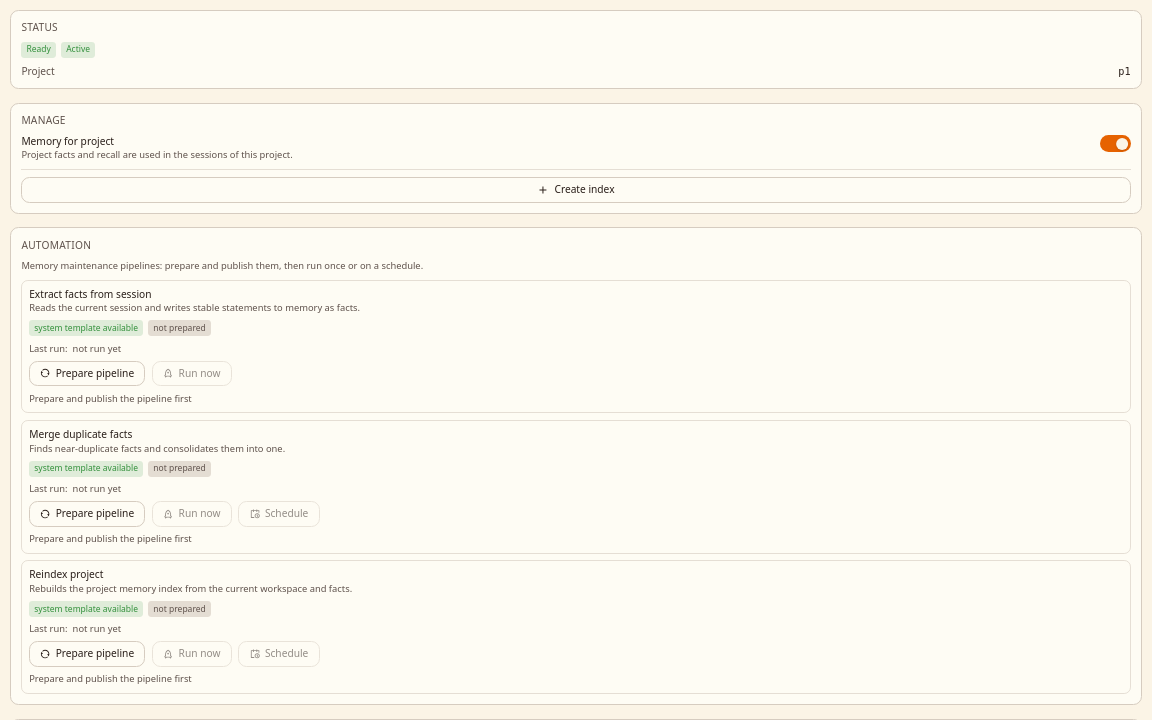
Test: MemoryTab — автоматизация памяти (ADR-101) › ошибка подготовки — inline alert внутри строки
Click the button with test id "memory-automation-prepare-dedupe": (87, 514) top-left (29, 501), bottom-right (145, 527)
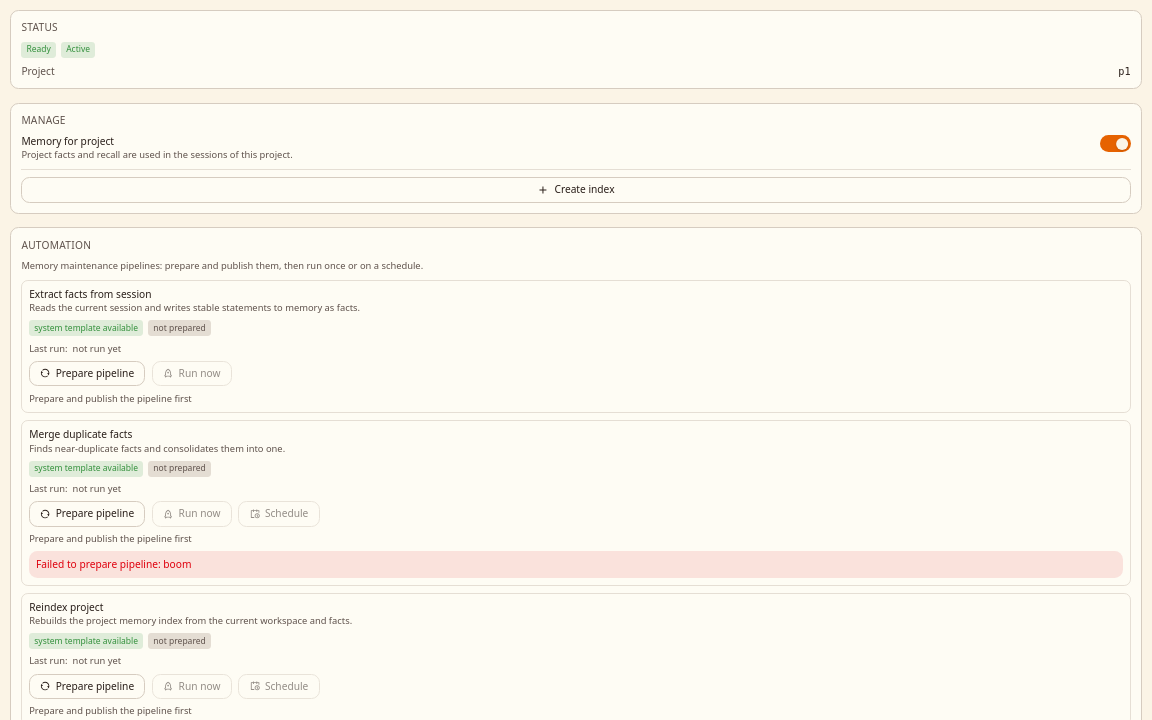
Result: the message "Failed to prepare pipeline: boom" is shown at top-left (29, 551), bottom-right (1123, 578)
Result: the message with test id "memory-automation-action-error-dedupe" shows "Failed to prepare pipeline" at top-left (36, 557), bottom-right (192, 571)
Result: the message with test id "memory-automation-action-error-dedupe" shows "boom" at top-left (36, 557), bottom-right (192, 571)
